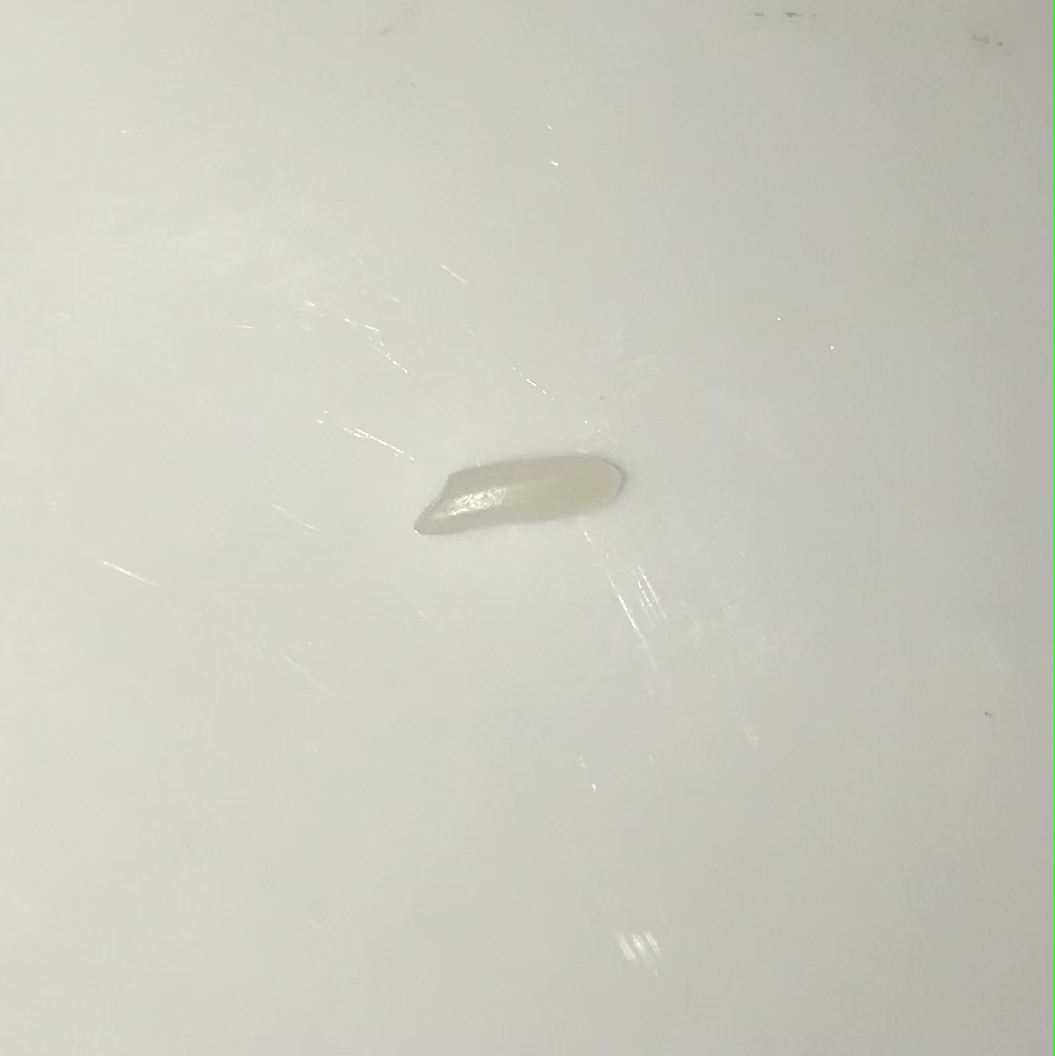Gao Ngoc Troi: (406, 427, 633, 563)
